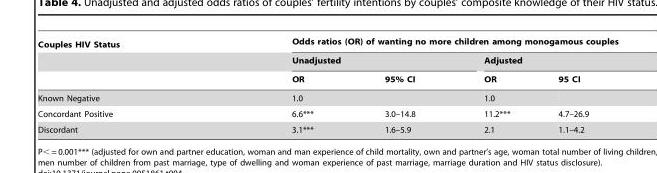table: (37, 36, 617, 133)
table column: (37, 36, 205, 133), (205, 36, 348, 133), (348, 36, 448, 133), (448, 36, 533, 133), (533, 36, 617, 133)
table column header: (37, 36, 617, 88)
table row: (37, 69, 617, 88), (37, 52, 617, 69), (37, 88, 617, 105), (37, 36, 617, 52), (37, 105, 617, 121), (37, 121, 617, 133)
table spanning cell: (37, 36, 205, 88), (205, 36, 617, 52), (205, 52, 448, 69), (448, 52, 617, 69)
